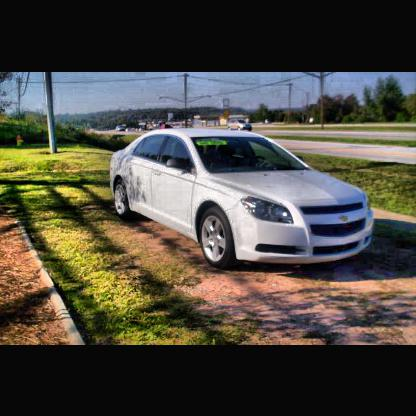Chevrolet Malibu Hybrid Sedan 2010: (109, 127, 377, 271)
